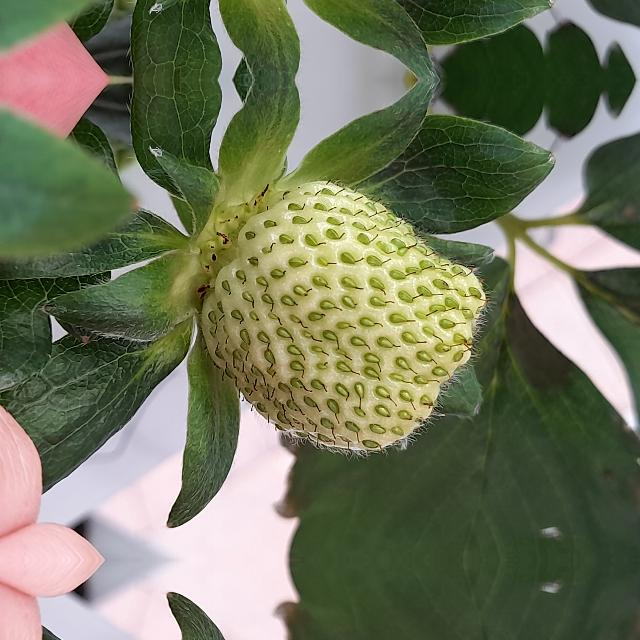Health_25: (199, 179, 497, 461)
